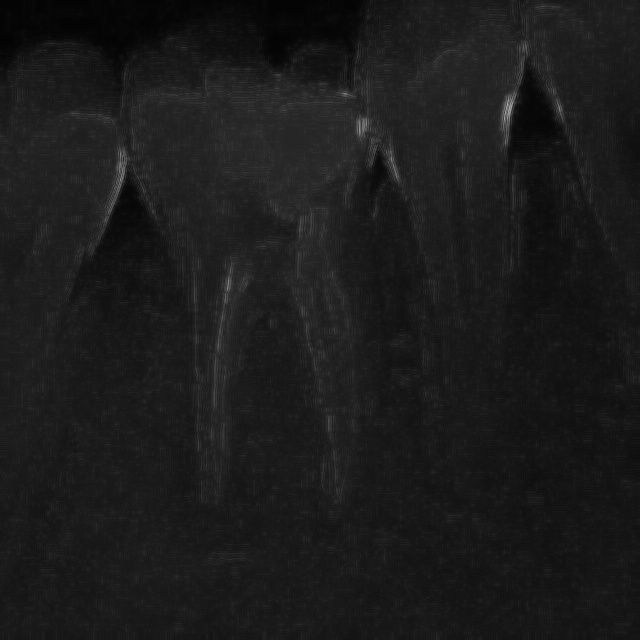Class 0- No endodontic treatment: (134, 158, 419, 569)
cavity: (356, 21, 586, 534)
